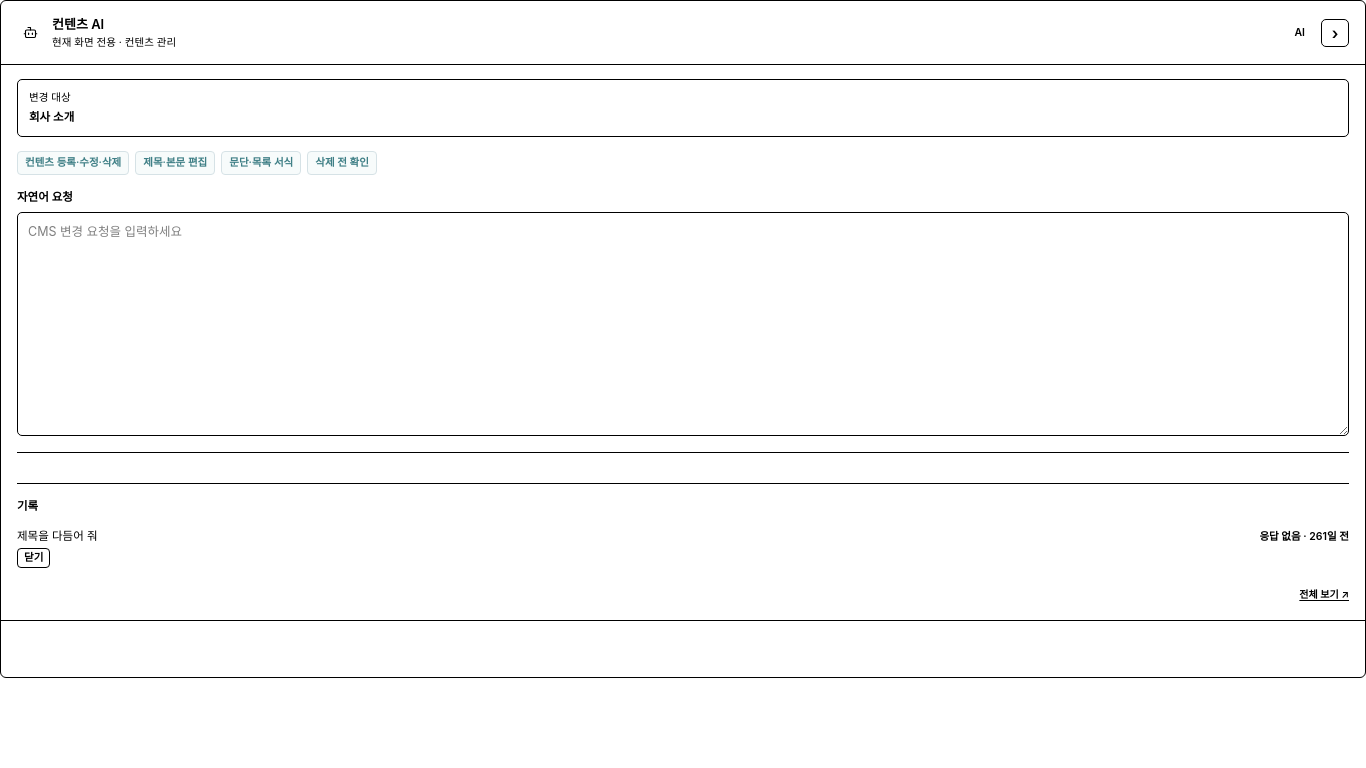
Test: 기록 › 응답 없음 행은 닫기로 사유와 함께 Job을 닫는다
Click the button "닫기": point(34, 558) [17,548,50,568]
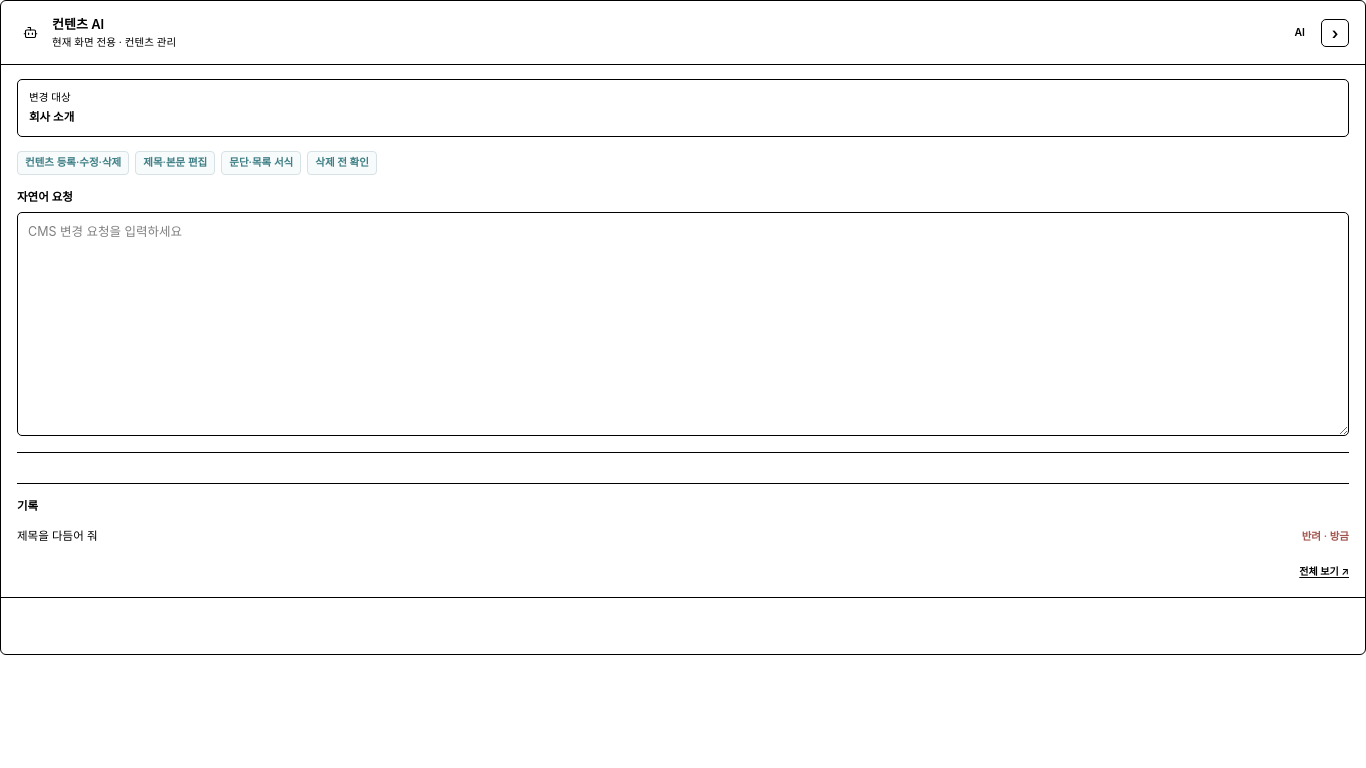
Now the button "닫기" is gone
